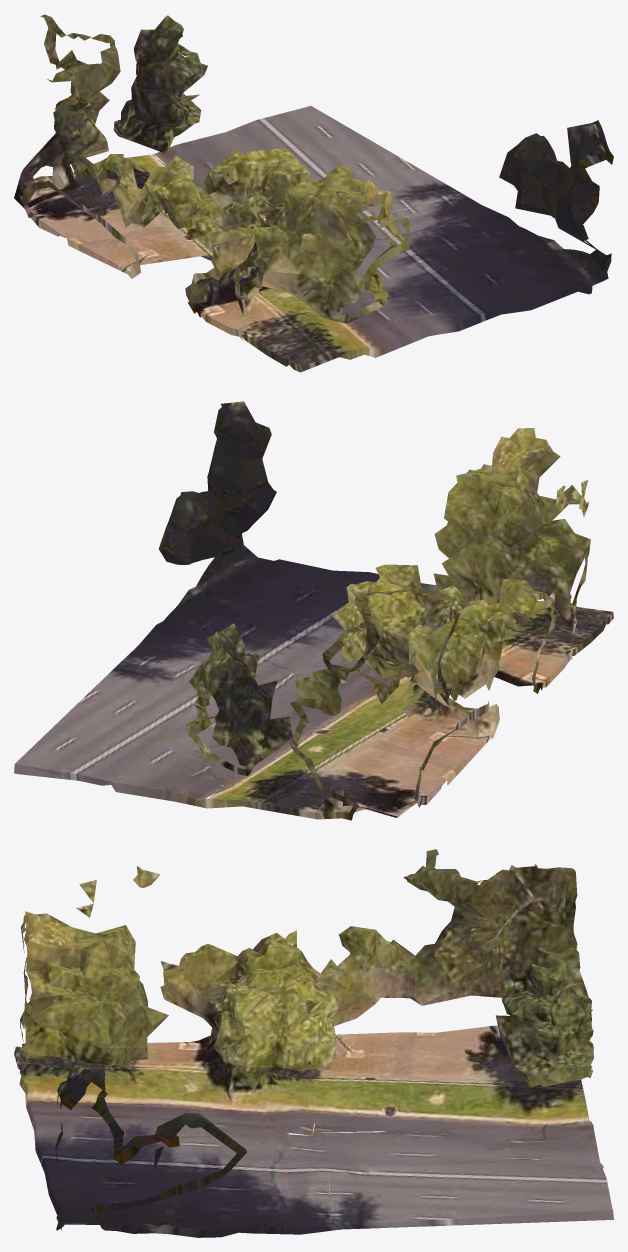
3 renders of one model, top to bottom at view 1: azimuth 30°, elevation 25°; view 2: azimuth 150°, elevation 25°; view 3: azimuth 270°, elevation 25°, orthographic. The views are drawn at different scales.
Visible parts, largest first — view 1: Mesh_0; view 2: Mesh_0; view 3: Mesh_0.
Boxes of the visible parts, bbox=[...] form: Mesh_0: bbox=[14, 14, 613, 372]; Mesh_0: bbox=[14, 401, 613, 820]; Mesh_0: bbox=[14, 849, 613, 1237].
Size of the model in its own units: 32.93 by 15.3 by 41.2.
2 materials, 2 textured.
